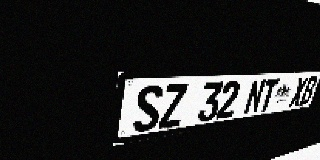2: (216, 80, 241, 119)
3: (197, 81, 224, 122)
B: (299, 76, 318, 105)
N: (243, 79, 267, 115)
S: (133, 85, 164, 133)
T: (257, 78, 280, 112)
X: (288, 77, 309, 107)
Z: (159, 83, 188, 129)
